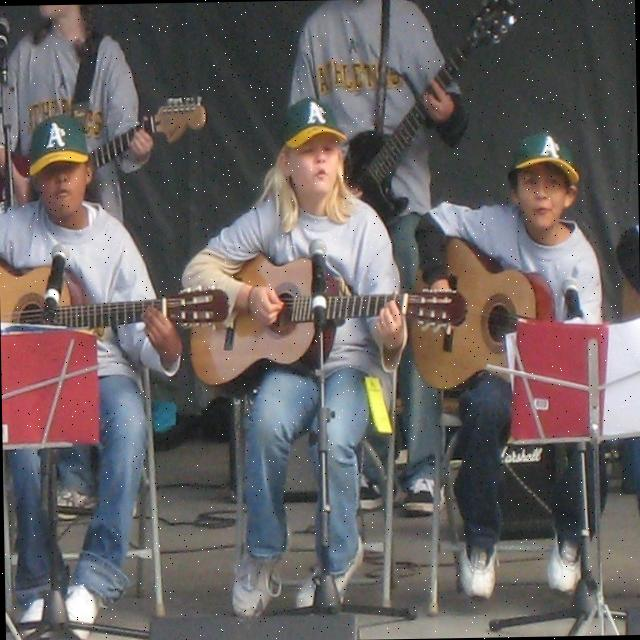guitar: (336, 0, 521, 220), (187, 249, 470, 392), (0, 87, 210, 238), (410, 229, 563, 392), (0, 244, 233, 339)
